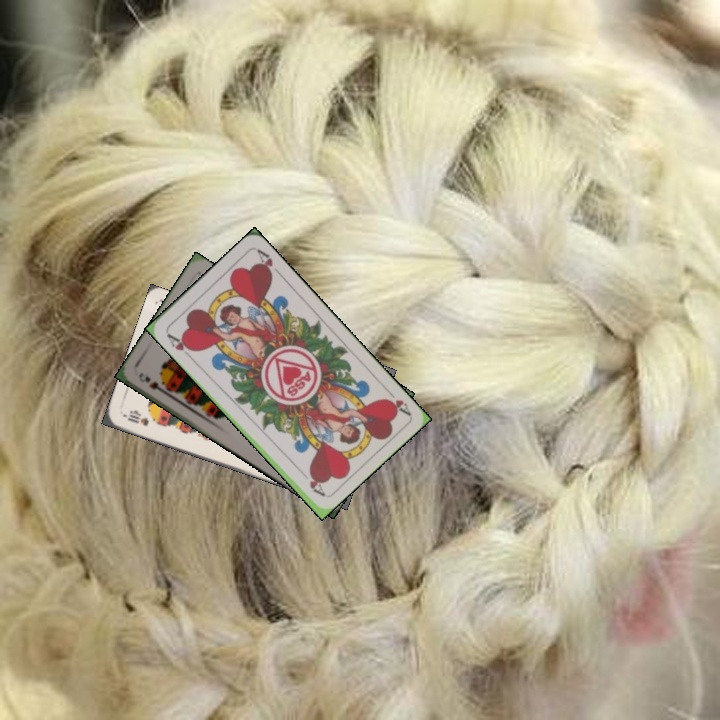HA: (380, 384, 413, 418), (163, 329, 197, 354)
S10: (120, 408, 151, 429)
S9: (134, 368, 172, 397)
